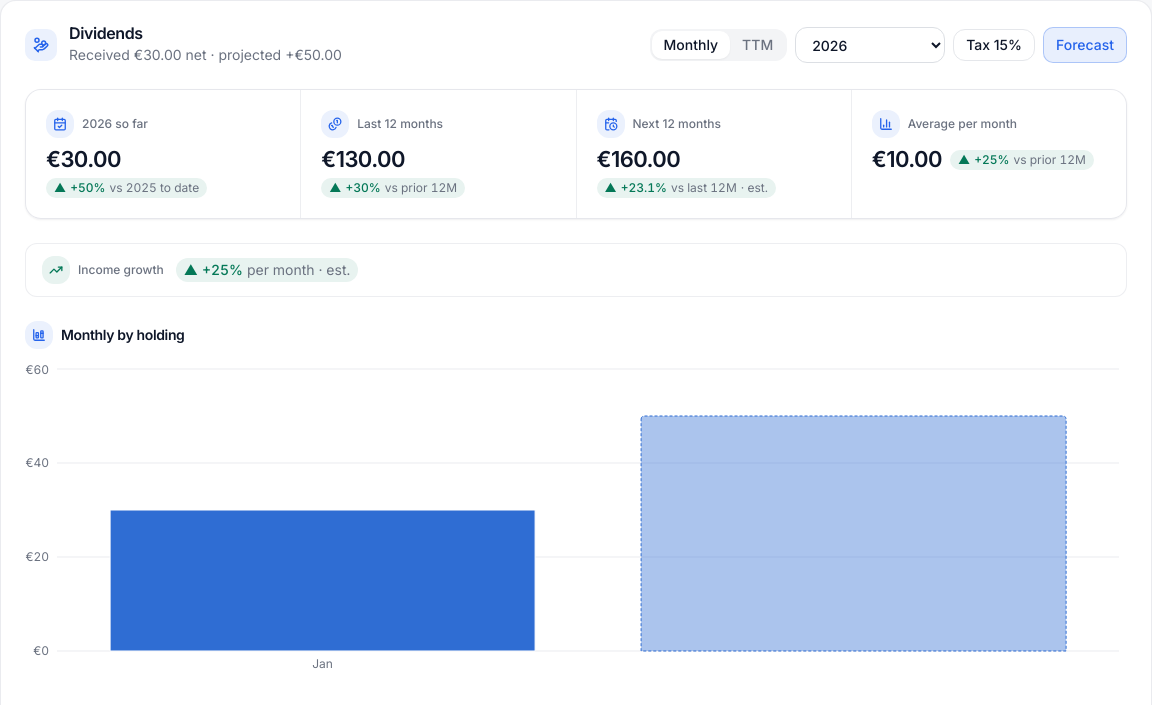
Test case: Dividend chart controls › shows the applied withholding and refetches dividends after saving a new rate
Click the button with aria-label "Edit forecast withholding".
click(994, 45)  # box [953,29,1035,61]
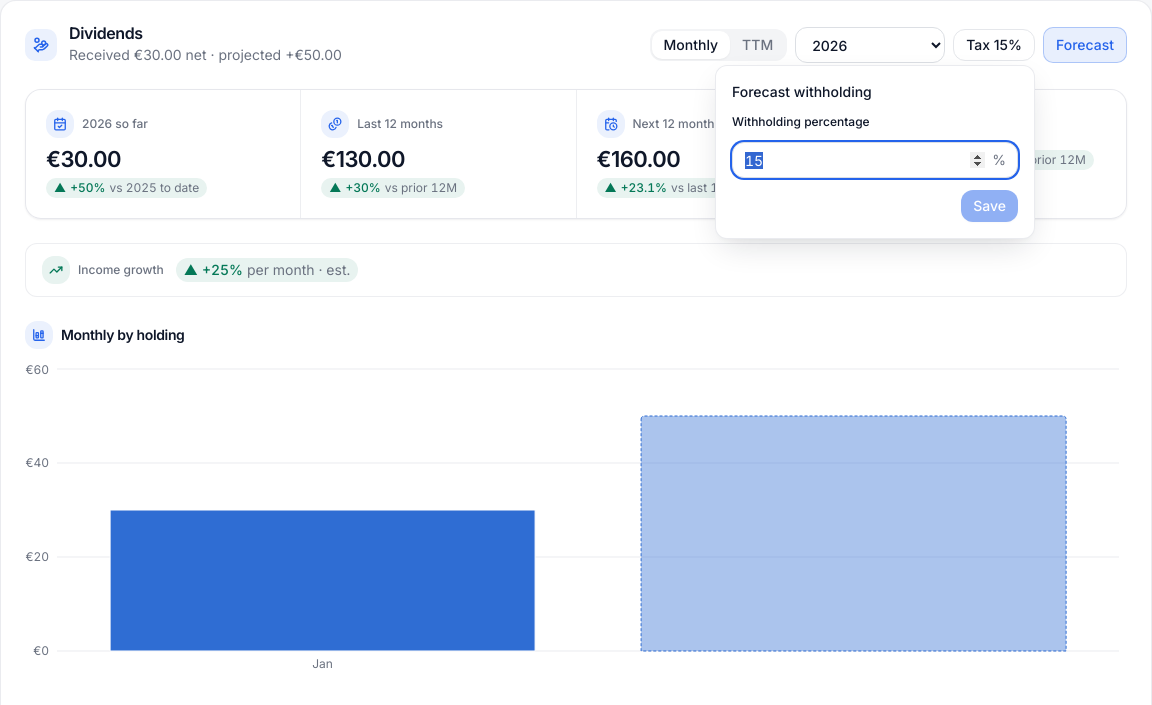
Replace the text in the number field labelled "Withholding percentage" with "26.375" at (875, 160), box [732,142,1018,178]
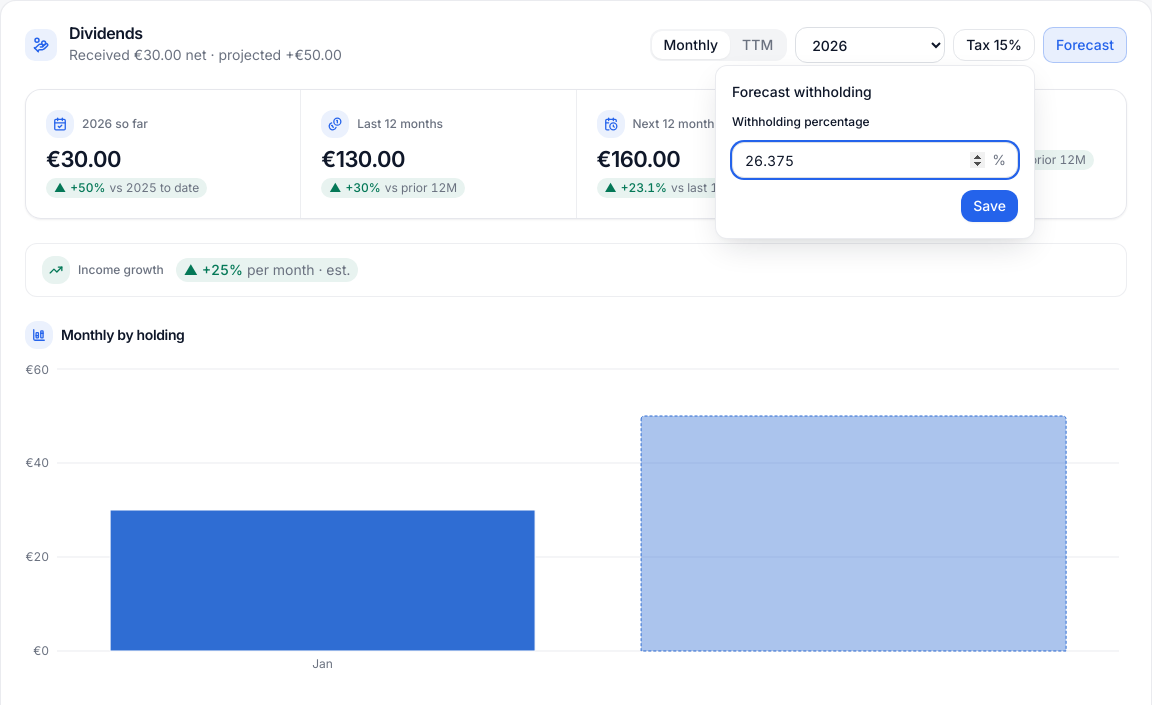
Click the button "Save".
click(990, 206)  # box [961,190,1018,222]
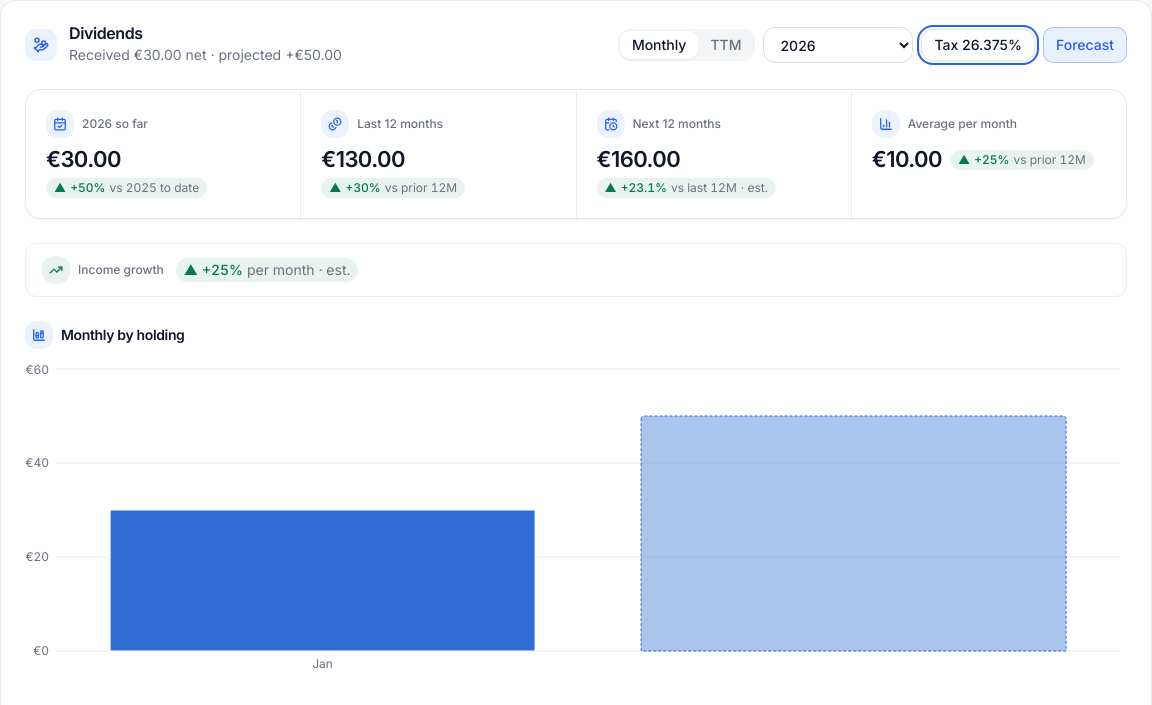
Check: the button with aria-label "Edit forecast withholding" reads "Tax 26.375%", box [922,29,1035,61]
